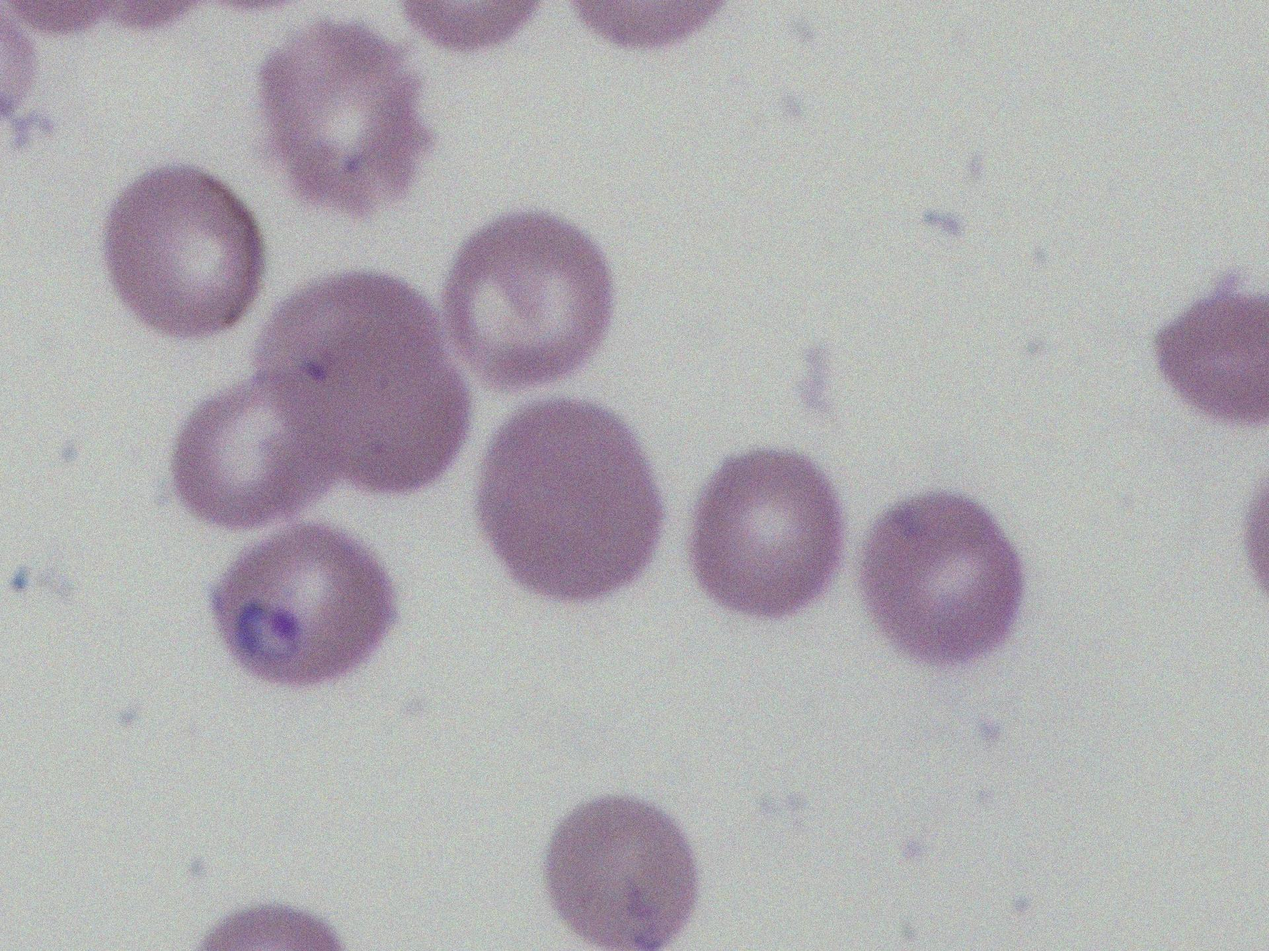Infected: (205, 524, 397, 690)
Uninfected: (251, 268, 468, 495), (476, 397, 662, 602), (258, 22, 432, 215), (446, 213, 611, 390), (858, 493, 1022, 668), (172, 367, 338, 528), (104, 167, 262, 336), (687, 451, 846, 618), (545, 798, 698, 951)
